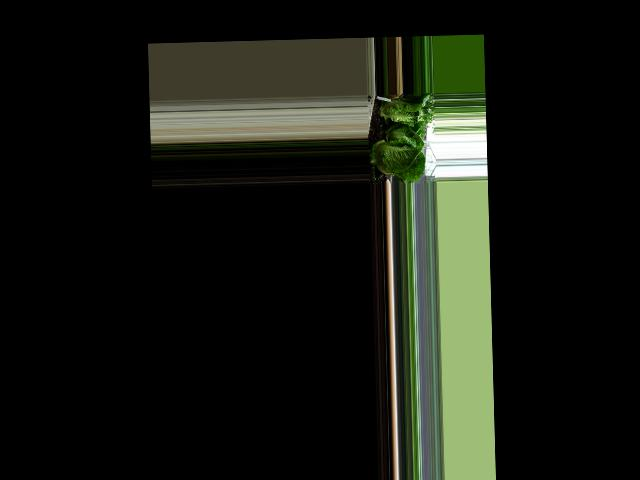lettuce: (372, 96, 429, 128)
